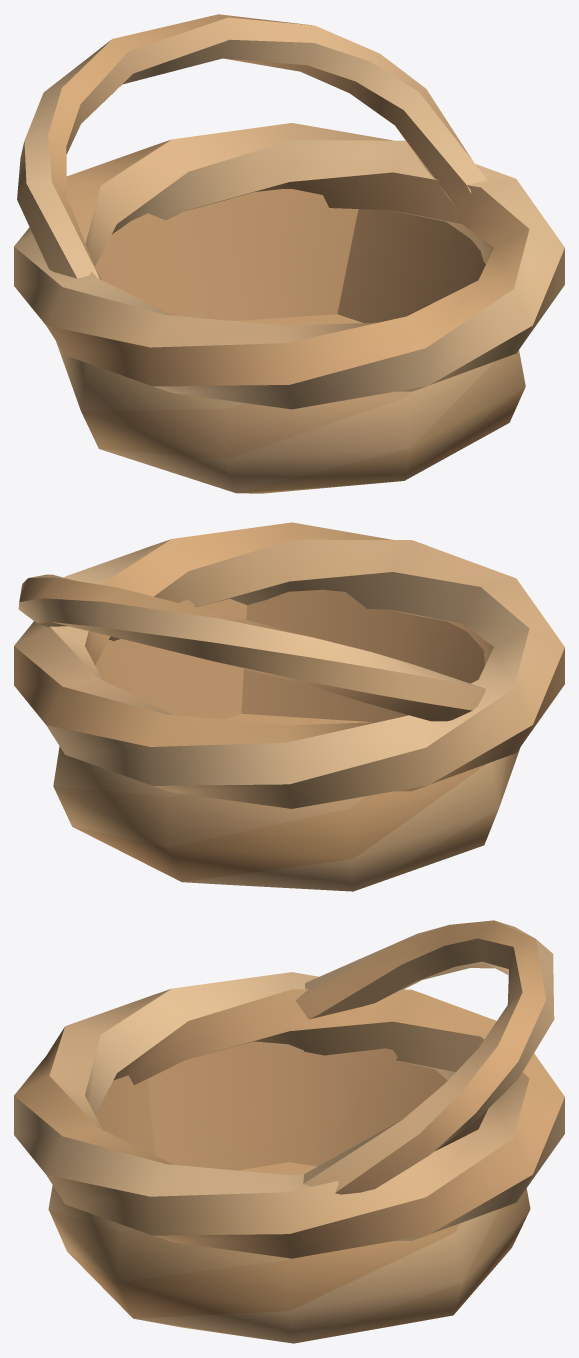
The model's file is food_basket_b_empty.glb.
3 views of the same model, one above another, from view 1: azimuth 30°, elevation 25°; view 2: azimuth 150°, elevation 25°; view 3: azimuth 270°, elevation 25° (orthographic).
Visible parts, largest first — view 1: Food_Basket_B_Empty; view 2: Food_Basket_B_Empty; view 3: Food_Basket_B_Empty.
Part boxes in pixels (x1=…): Food_Basket_B_Empty: x1=14, y1=14, x2=564, y2=493; Food_Basket_B_Empty: x1=14, y1=522, x2=564, y2=891; Food_Basket_B_Empty: x1=14, y1=920, x2=564, y2=1343.
Bounding box in the file's own units: 0.9436 × 0.5756 × 0.9252.
Materials: 1 (1 with a texture image).
